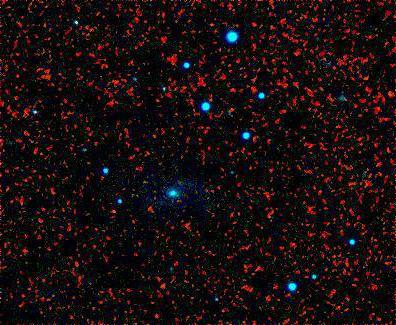star: (165, 186, 195, 216)
